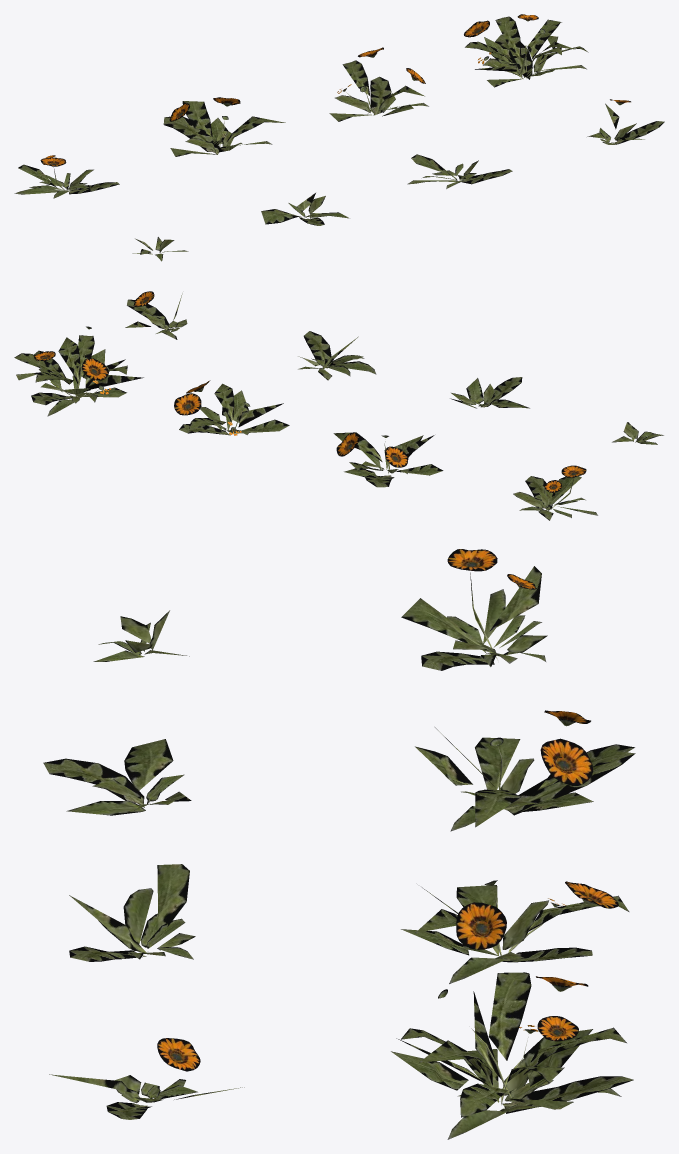
Rendered from flower_gazania.glb.
3 renders of one model, top to bottom at view 1: azimuth 30°, elevation 25°; view 2: azimuth 150°, elevation 25°; view 3: azimuth 270°, elevation 25°, orthographic. The views are drawn at different scales.
Visible parts, largest first — view 1: flower_gazania_a_LOD0; view 2: flower_gazania_a_LOD0; view 3: flower_gazania_a_LOD0.
Boxes of the visible parts, <box> form: flower_gazania_a_LOD0: <box>14,14,664,261</box>; flower_gazania_a_LOD0: <box>14,291,663,520</box>; flower_gazania_a_LOD0: <box>43,549,635,1139</box>.
Bounding box in the file's own units: 1.48 × 0.1545 × 0.6734.
1 material, 1 textured.
